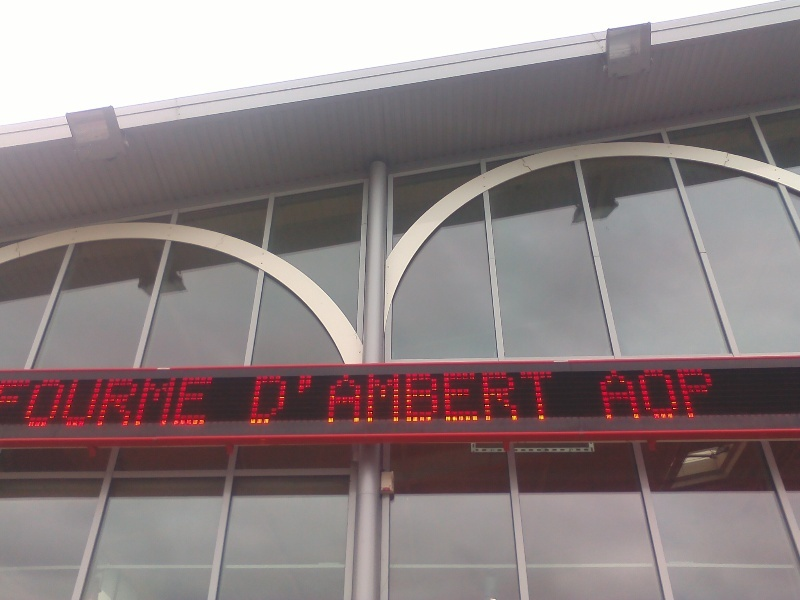text: (257, 372, 272, 426), (273, 372, 288, 426), (289, 372, 304, 426), (305, 372, 320, 426), (321, 372, 336, 426), (337, 372, 352, 426), (353, 372, 368, 426), (369, 372, 384, 426), (385, 372, 400, 426), (401, 372, 416, 426), (417, 372, 432, 426), (433, 372, 448, 426), (449, 372, 464, 426), (465, 372, 480, 426), (481, 372, 496, 426), (497, 372, 512, 426), (513, 372, 528, 426), (529, 372, 544, 426), (609, 367, 624, 421), (625, 367, 640, 421), (641, 367, 656, 421), (657, 367, 672, 421), (673, 367, 688, 421), (689, 367, 704, 421), (49, 377, 64, 428), (65, 377, 80, 428), (81, 377, 96, 428), (97, 377, 112, 428), (113, 377, 128, 428), (129, 377, 144, 428), (145, 377, 160, 428), (161, 377, 176, 428), (177, 377, 192, 428), (193, 377, 208, 428), (705, 367, 719, 421), (545, 372, 558, 426), (597, 367, 608, 421), (37, 377, 48, 428), (1, 380, 16, 404), (17, 380, 31, 404), (209, 377, 214, 428), (255, 372, 256, 426)
